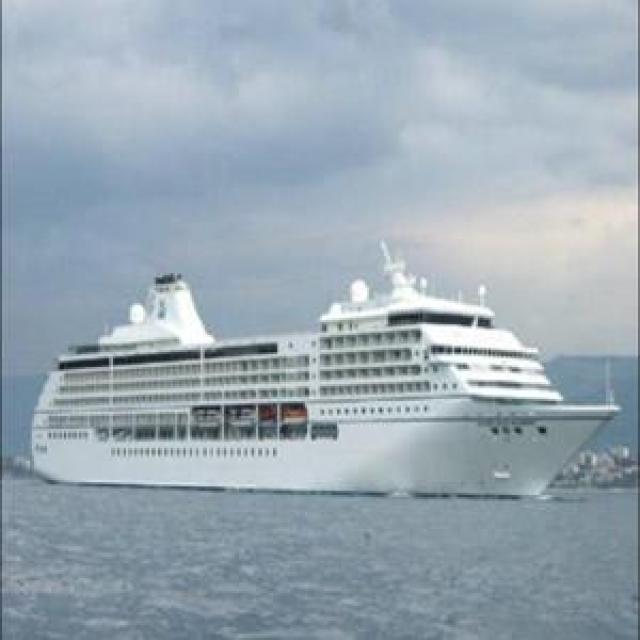passenger ship: (19, 260, 616, 502)
